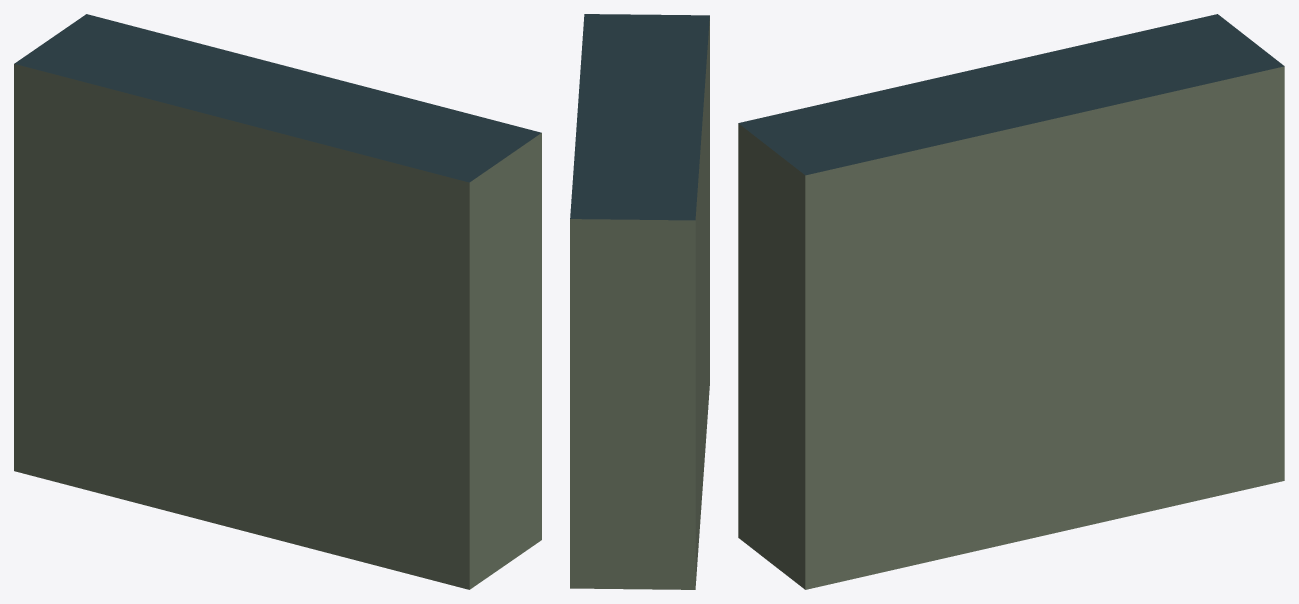
The model's file is nyc-1016043-0.glb.
3 views of the same model, side by side, from view 1: azimuth 30°, elevation 25°; view 2: azimuth 150°, elevation 25°; view 3: azimuth 270°, elevation 25° (orthographic). The views are drawn at different scales.
Parts seen in each view (by area): view 1: nyc-1016043-0; view 2: nyc-1016043-0; view 3: nyc-1016043-0.
Boxes of the visible parts, bbox=[...] form: nyc-1016043-0: bbox=[14, 14, 541, 589]; nyc-1016043-0: bbox=[570, 14, 709, 589]; nyc-1016043-0: bbox=[738, 14, 1284, 589].
Bounding box in the file's own units: 19.32 × 23.13 × 27.64.
